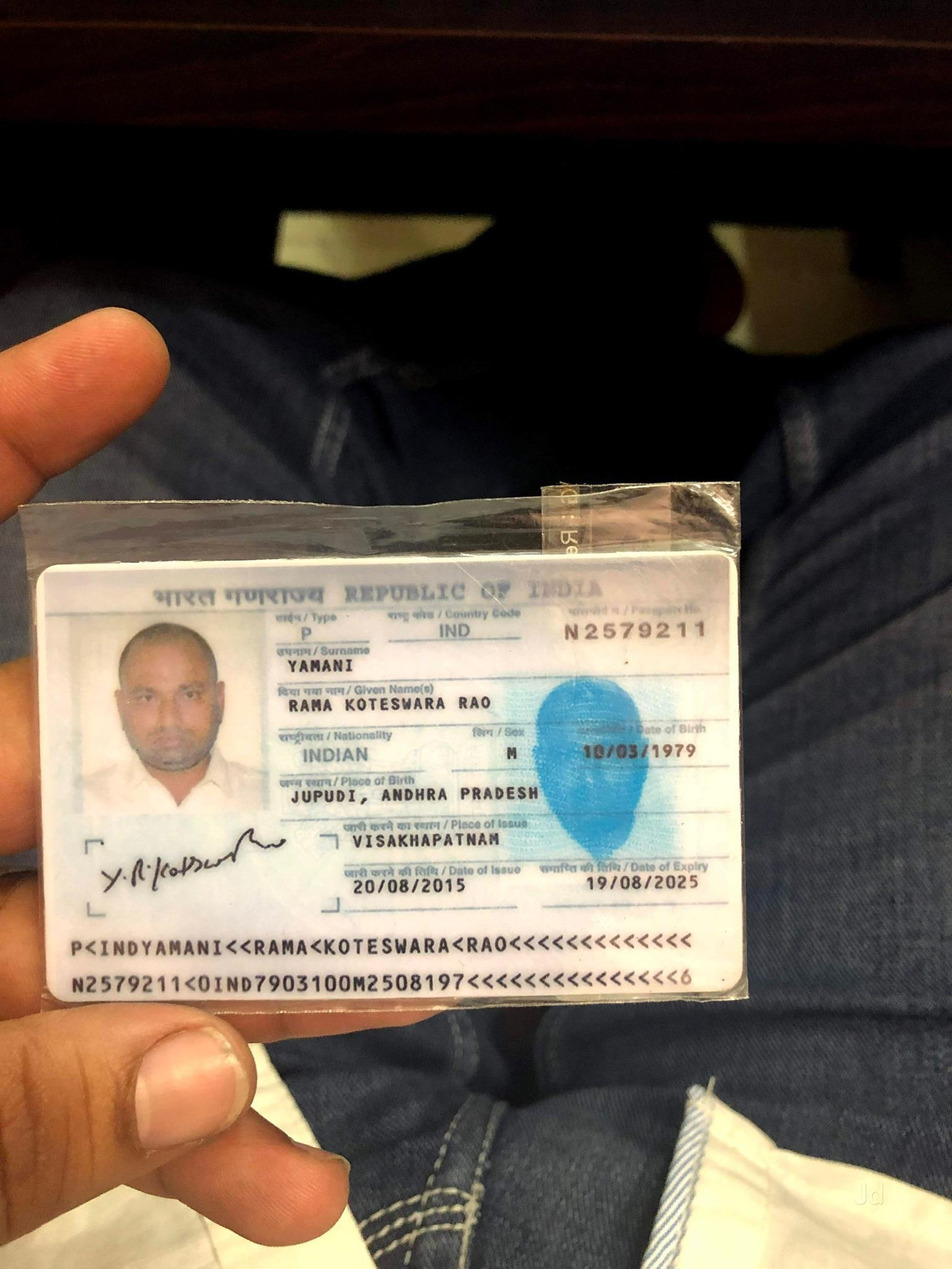DOB: (578, 736, 708, 771)
Surname: (281, 656, 361, 677)
country_code: (435, 620, 482, 642)
date_of_expiry: (583, 871, 709, 897)
date_of_issue: (345, 875, 484, 902)
details: (62, 929, 702, 990)
name: (279, 692, 495, 721)
nationality: (294, 742, 386, 771)
passport_no: (553, 621, 713, 654)
photo: (66, 615, 264, 810)
place_of_birth: (286, 784, 544, 807)
place_of_issue: (350, 829, 510, 853)
sex: (492, 741, 539, 766)
sign: (93, 828, 291, 912)
type: (293, 625, 324, 647)
